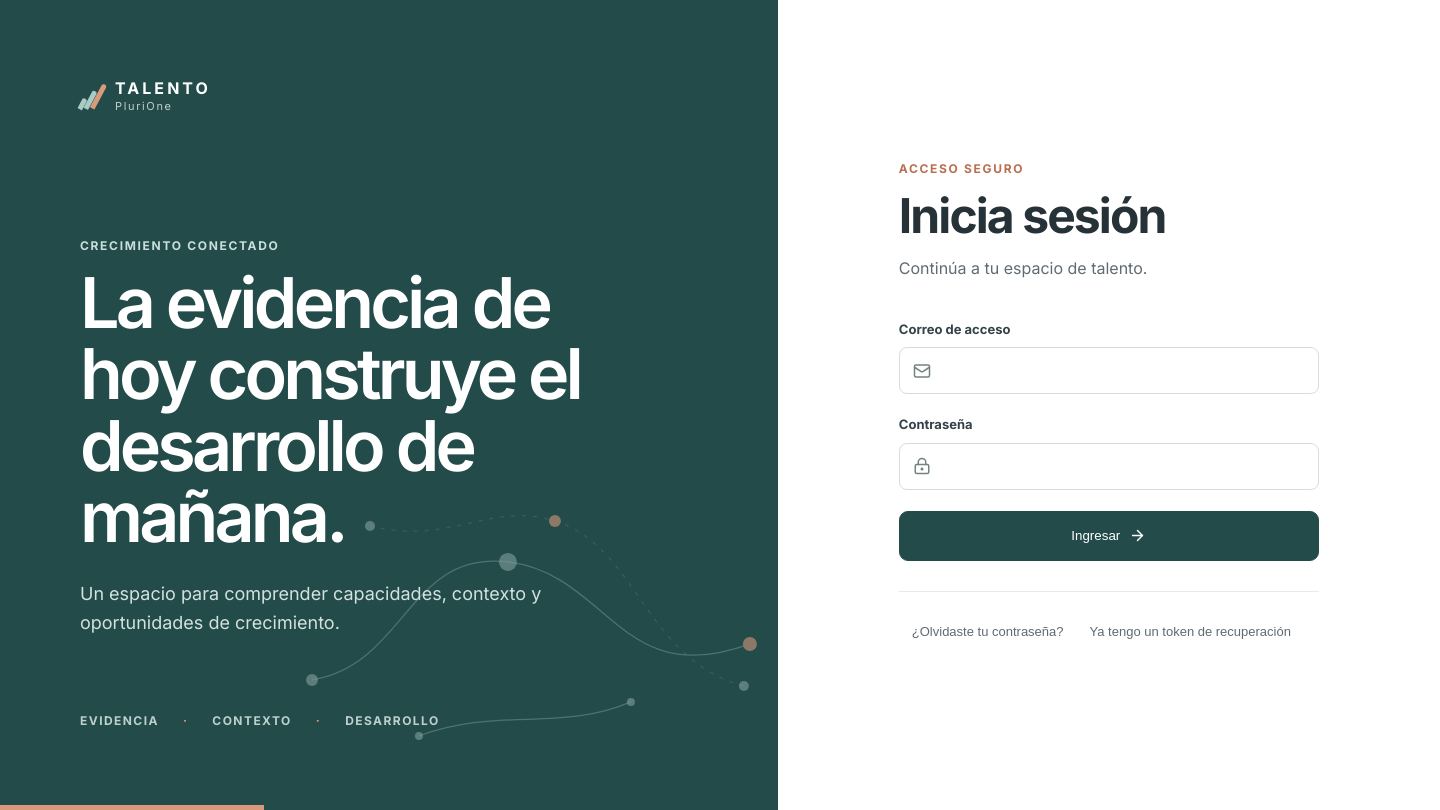
App — shell público de recuperación (H1) › desde el restablecimiento se puede solicitar un token nuevo
Click the button "Ya tengo un token de recuperación": (1190, 632) [1076, 614, 1304, 650]
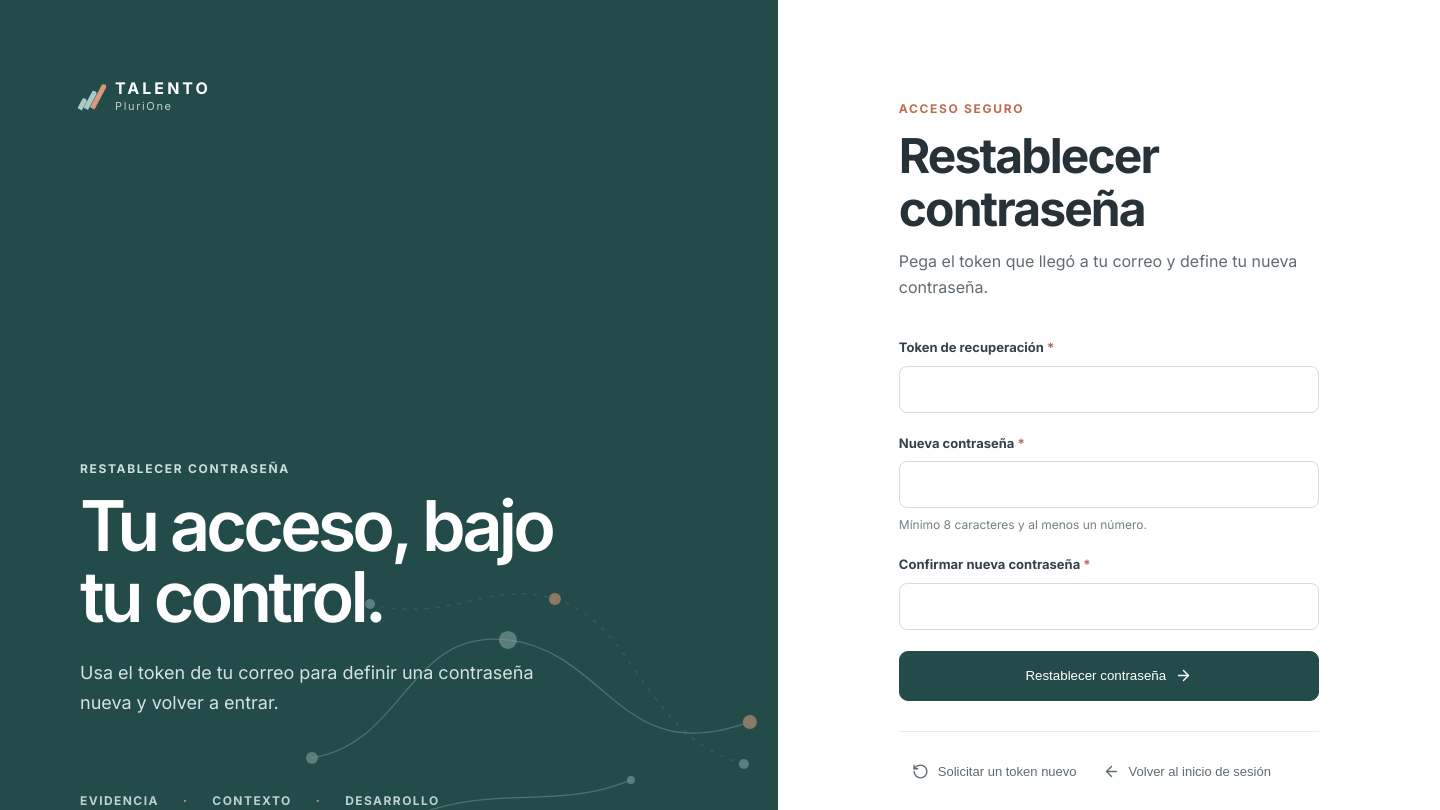
Click the button "Solicitar un token nuevo": (994, 772) [899, 754, 1090, 790]
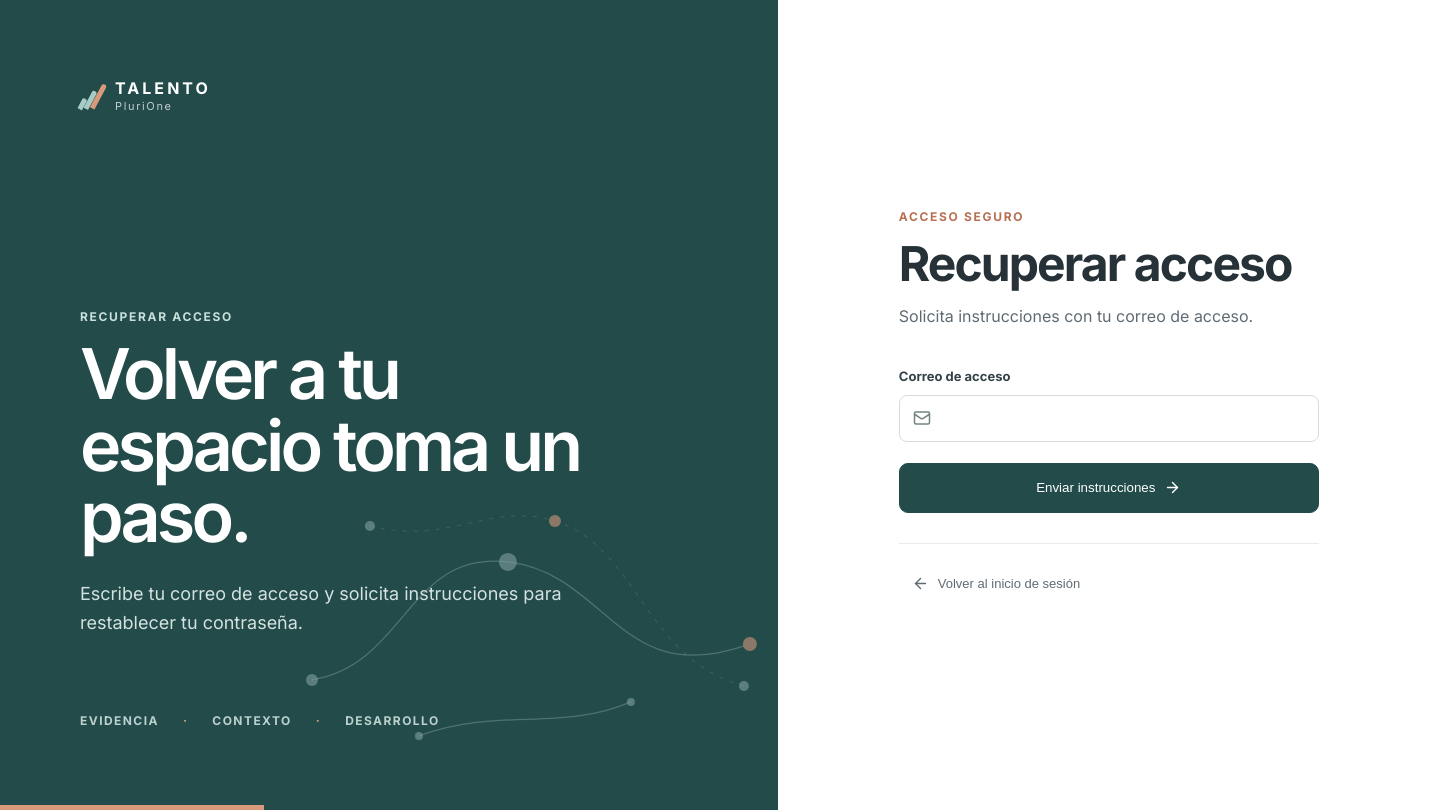
Now the heading "Recuperar acceso" is shown, box [899, 238, 1319, 291]
